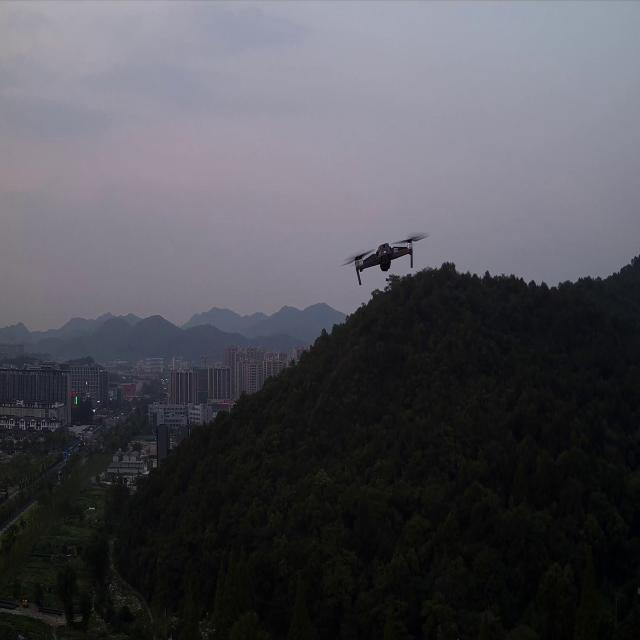UAV: (341, 229, 429, 287)
